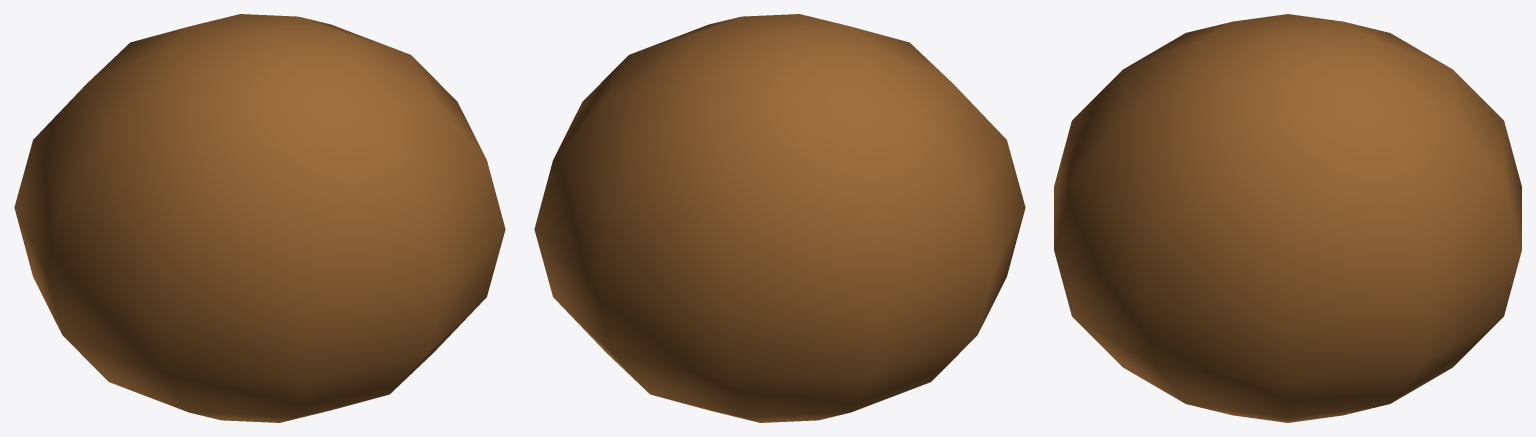
Rendered from litorisco_stage2.obj.
3 renders of one model, left to right at view 1: azimuth 30°, elevation 25°; view 2: azimuth 150°, elevation 25°; view 3: azimuth 270°, elevation 25°, orthographic.
Size of the model in its own units: 2 by 1.6 by 1.9.
